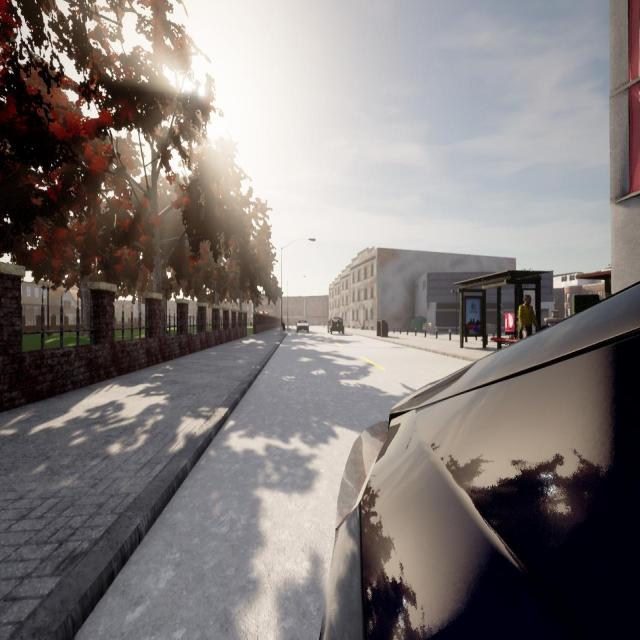Pedestrian: (517, 295, 539, 338)
Vehicle: (322, 283, 640, 638), (327, 317, 345, 334), (296, 319, 309, 333)
